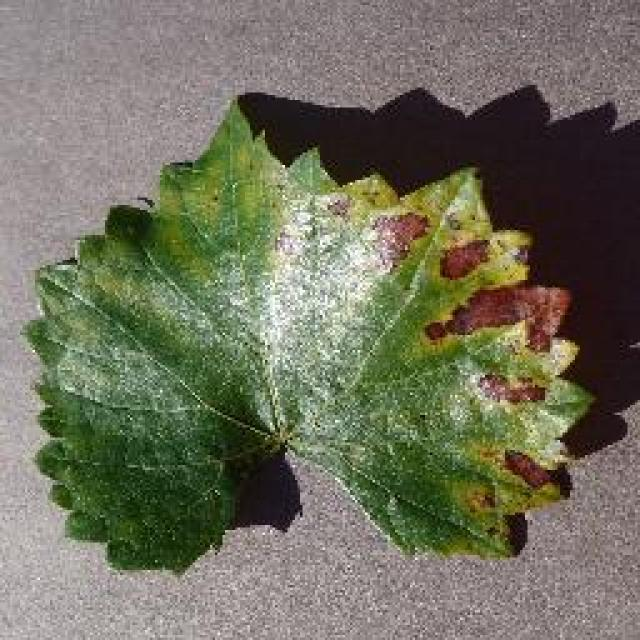Black_Measles: (0, 75, 598, 577)
